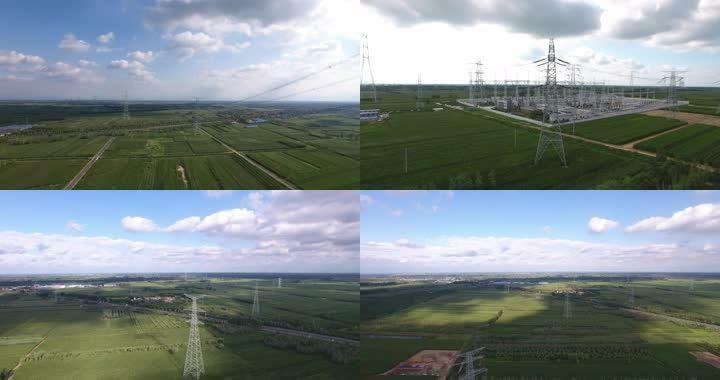power_tower: (521, 32, 582, 173), (179, 287, 216, 379), (250, 273, 269, 315)
